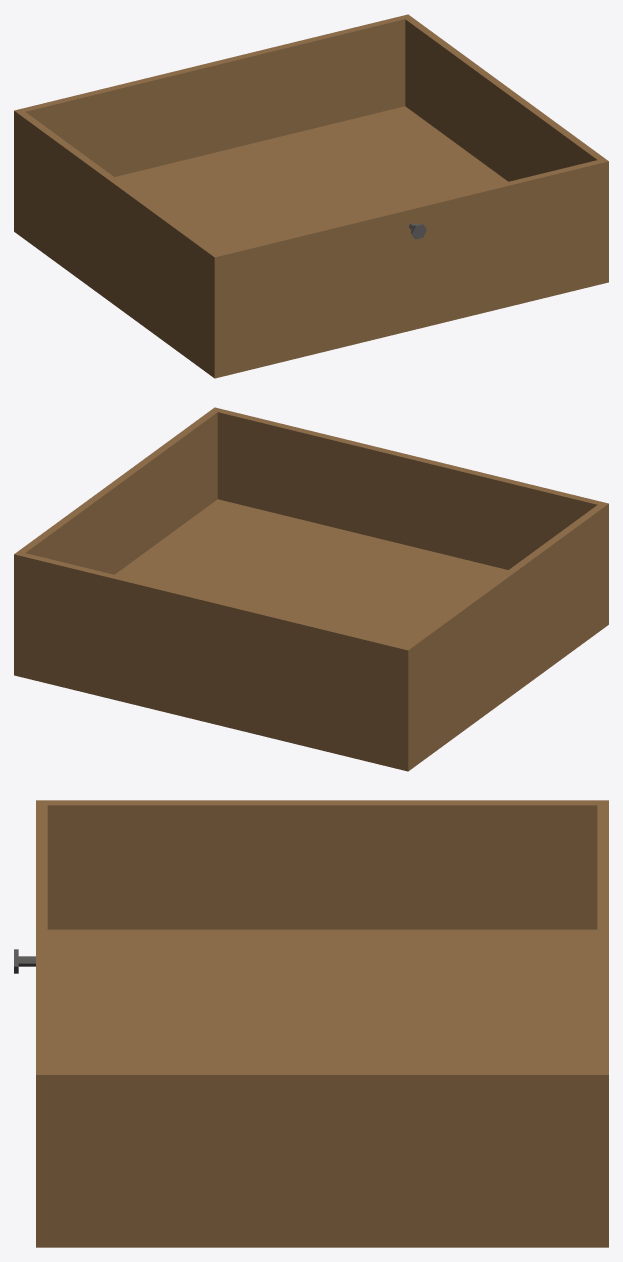
Rendered from Cupboard_18_02.fbx.
The picture shows the model from 3 angles, top to bottom: view 1: azimuth 30°, elevation 25°; view 2: azimuth 150°, elevation 25°; view 3: azimuth 270°, elevation 25°; orthographic projection. The views are drawn at different scales.
Visible parts, largest first — view 1: Cupboard_18_02; view 2: Cupboard_18_02; view 3: Cupboard_18_02.
Part boxes in pixels (x1=…): Cupboard_18_02: x1=14, y1=14, x2=608, y2=378; Cupboard_18_02: x1=14, y1=407, x2=608, y2=771; Cupboard_18_02: x1=14, y1=800, x2=608, y2=1247.
Size of the model in its own units: 47.67 by 13.99 by 43.66.
